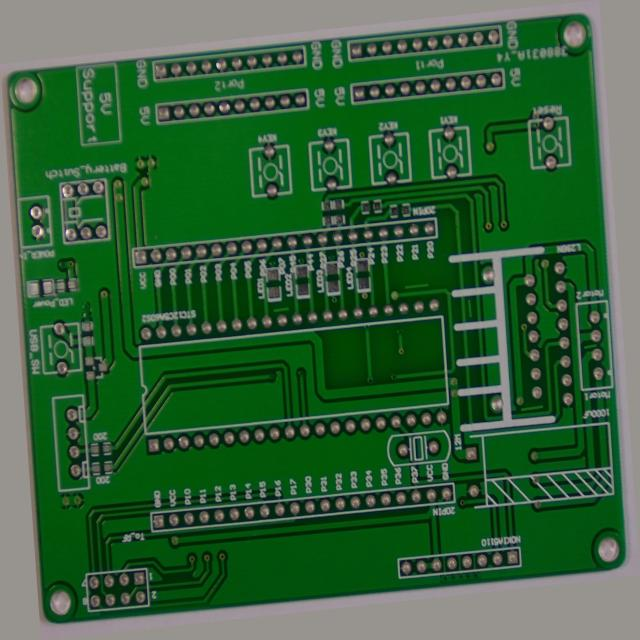spurious_copper: (521, 431, 554, 449), (408, 285, 440, 303), (266, 296, 292, 311), (473, 312, 487, 338), (594, 373, 615, 389)
